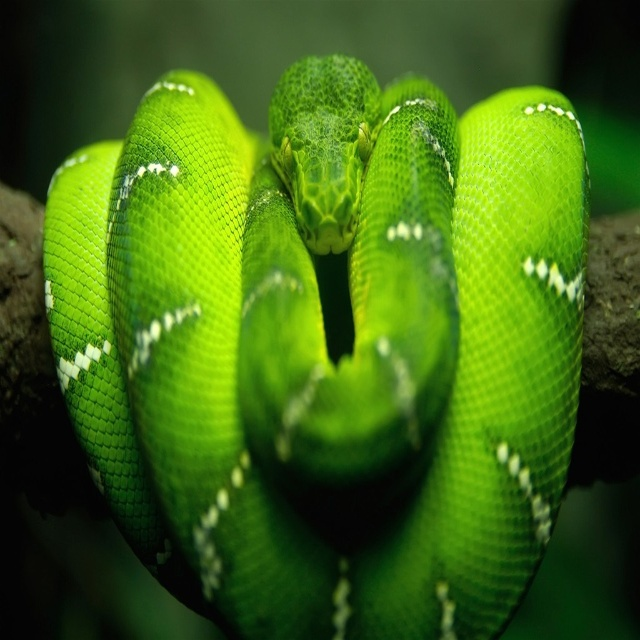Snake: (42, 54, 593, 639)
